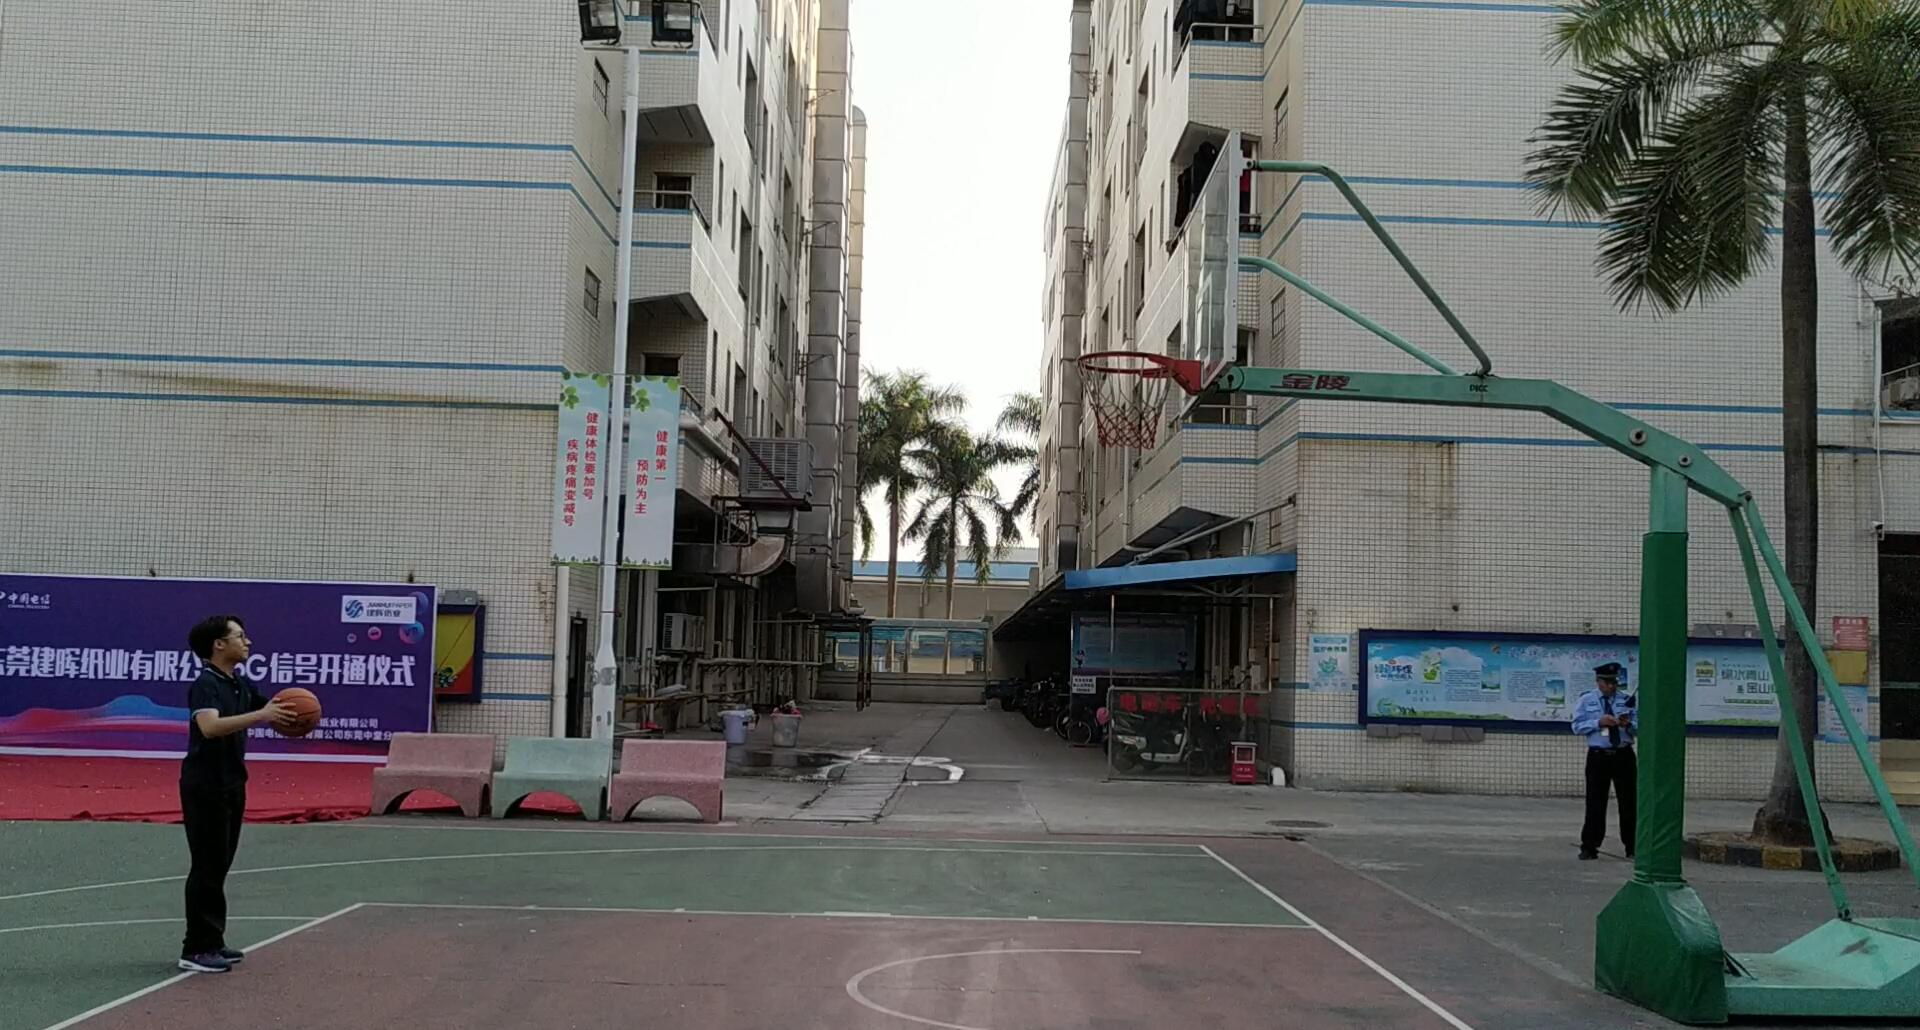basketball: (263, 686, 326, 744)
